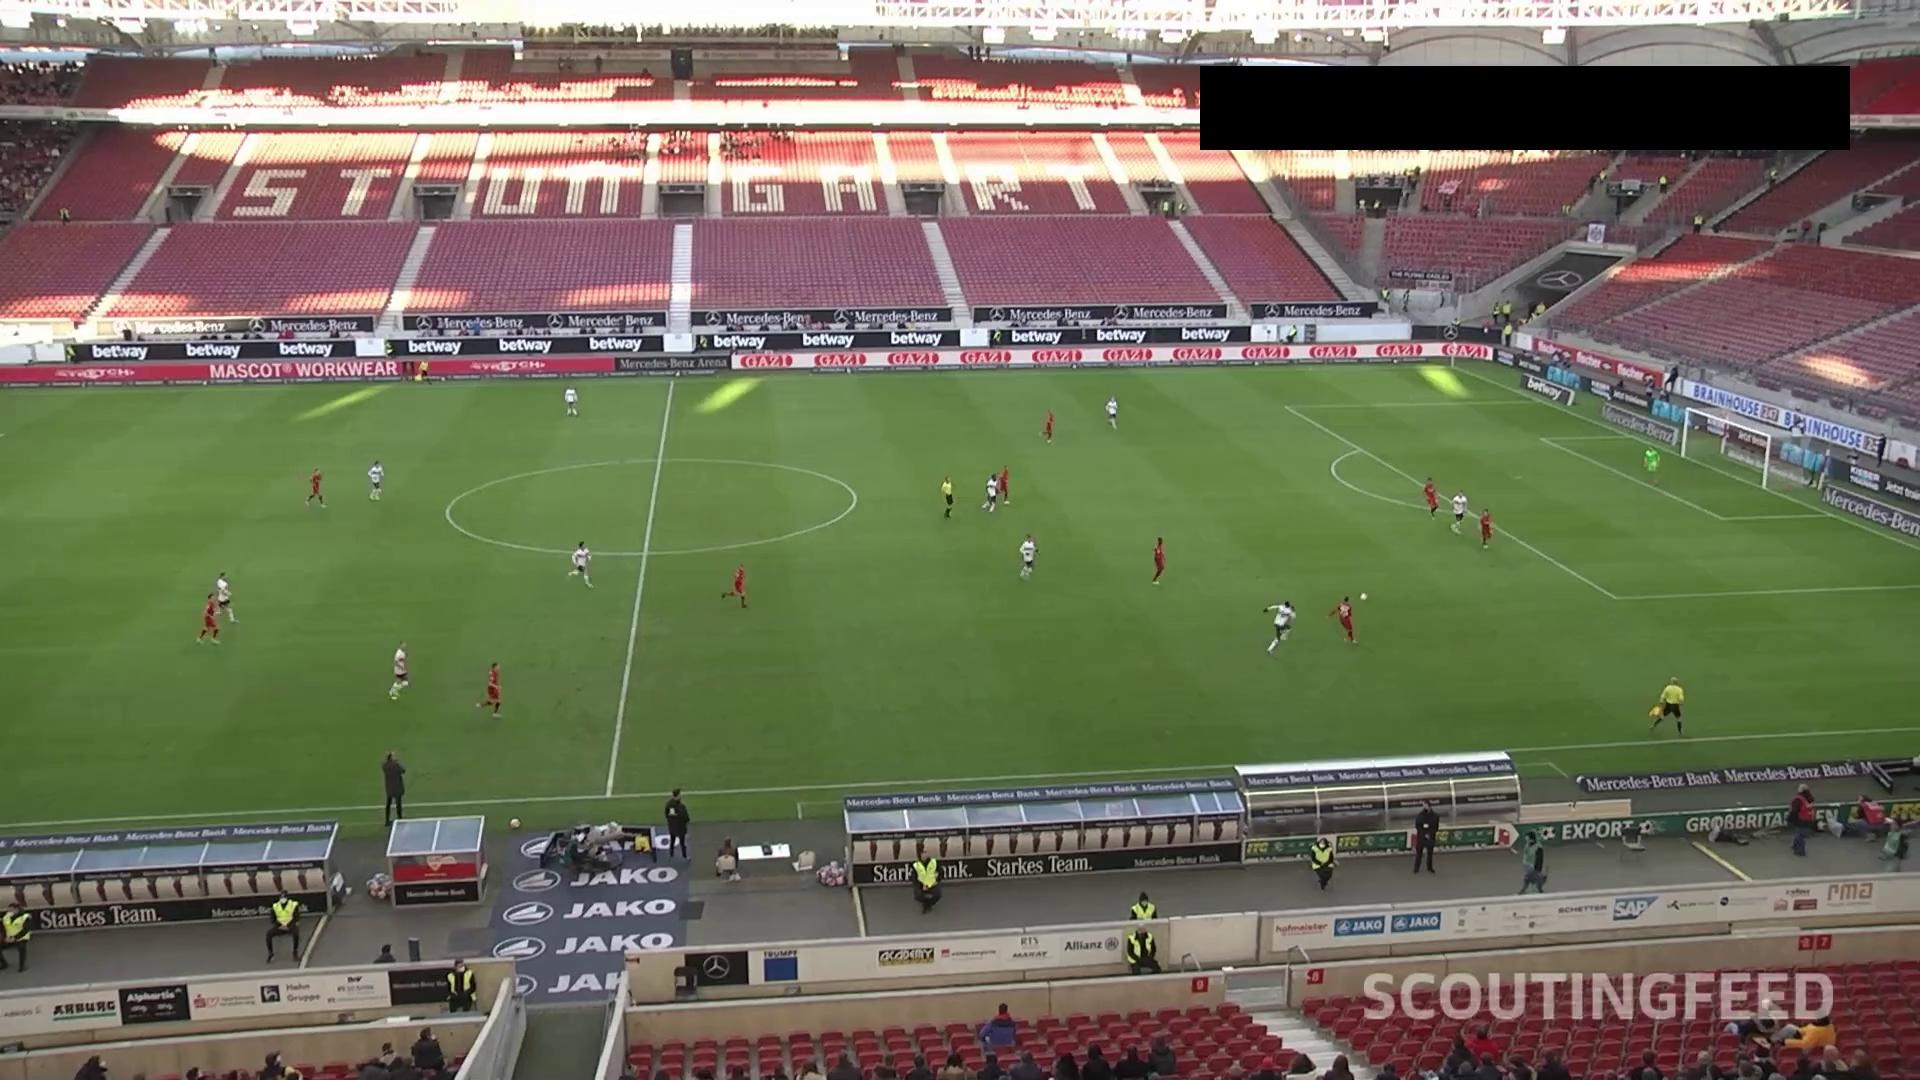Location-of-ball: (1345, 585, 1389, 612)
